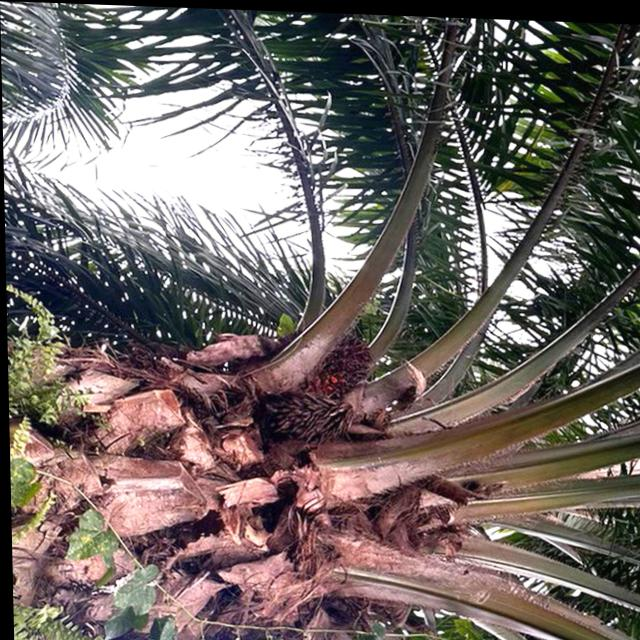ripe: (297, 322, 381, 406)
